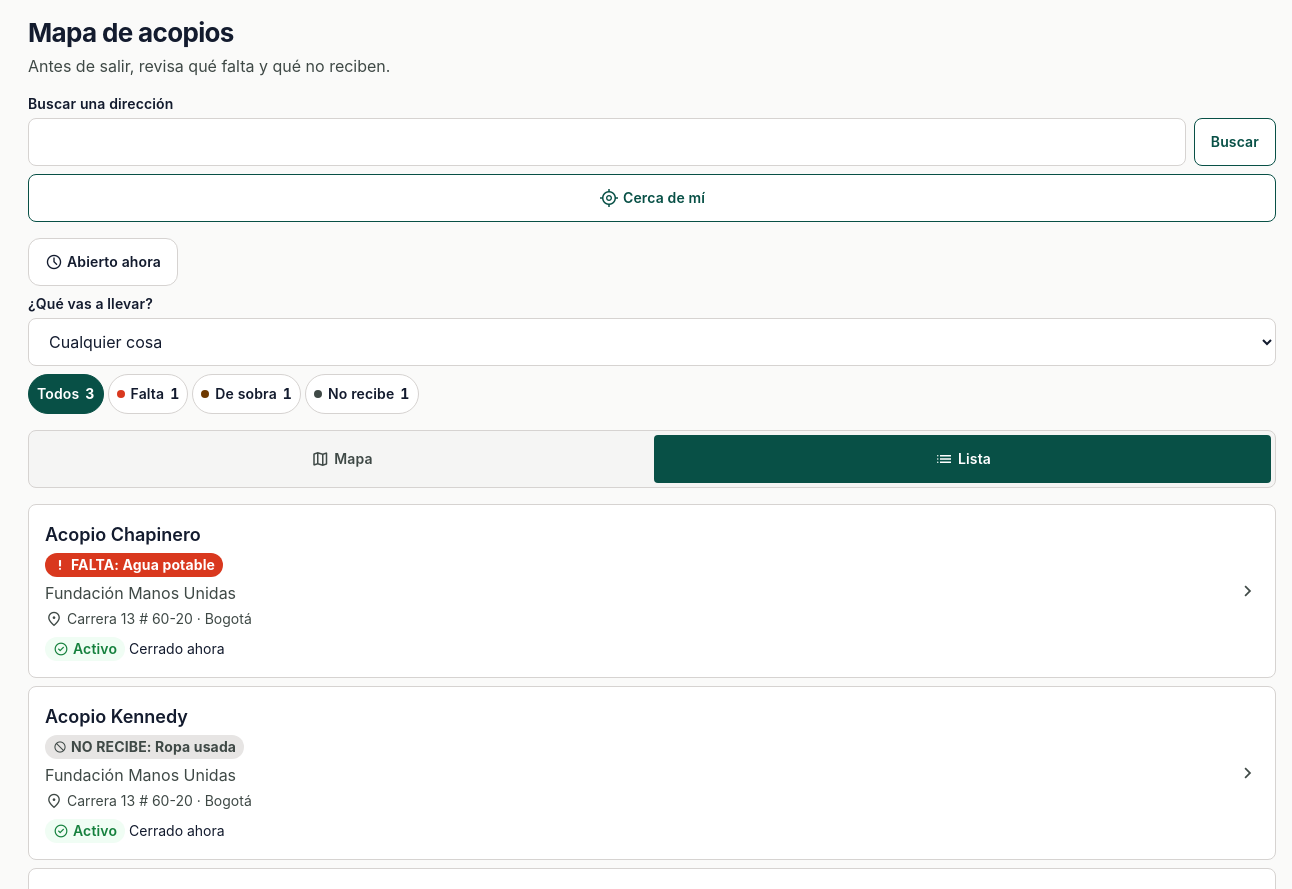
it: los chips cuentan y filtran por estado, y quedan en la URL
The width and height of the screenshot is (1292, 889).
Expected: the button "Falta 1" is shown, [108,374,188,414]
Expected: the button "No recibe 1" is shown, [305,374,418,414]
Click the button "De sobra 1".
click(247, 394)  # box [192,374,301,414]
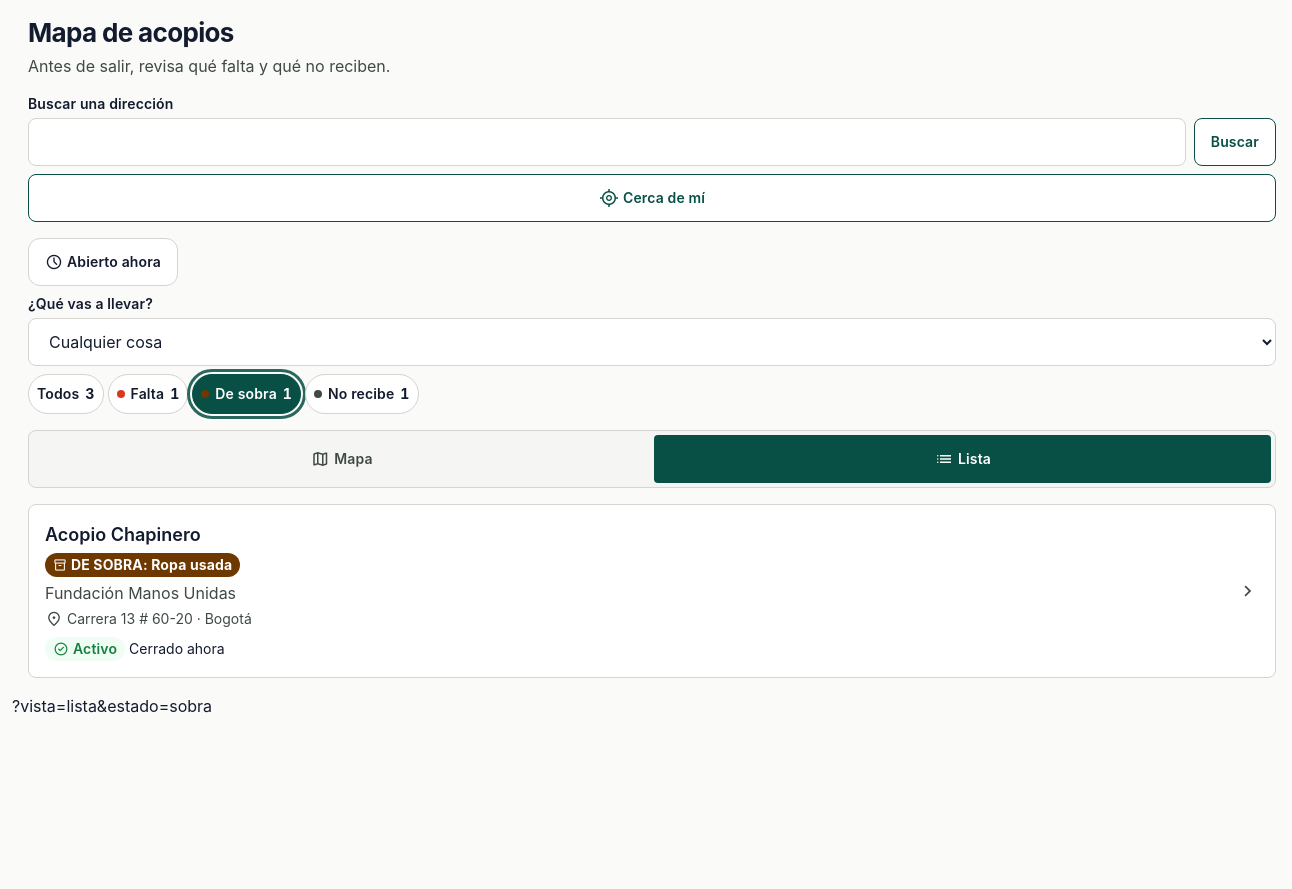
Now the text with test id "busqueda" shows "estado=sobra", box [12,696,212,716]
Now the link "Acopio Chapinero" shows "DE SOBRA: Ropa usada", box [28,504,1276,678]
